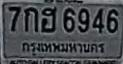4: (92, 8, 103, 32)
6: (106, 8, 117, 32), (63, 7, 74, 31)
7: (8, 6, 20, 31)
9: (78, 7, 88, 32)
A01: (24, 6, 37, 32)
A44: (40, 6, 56, 32)
BKK: (19, 39, 106, 56)
